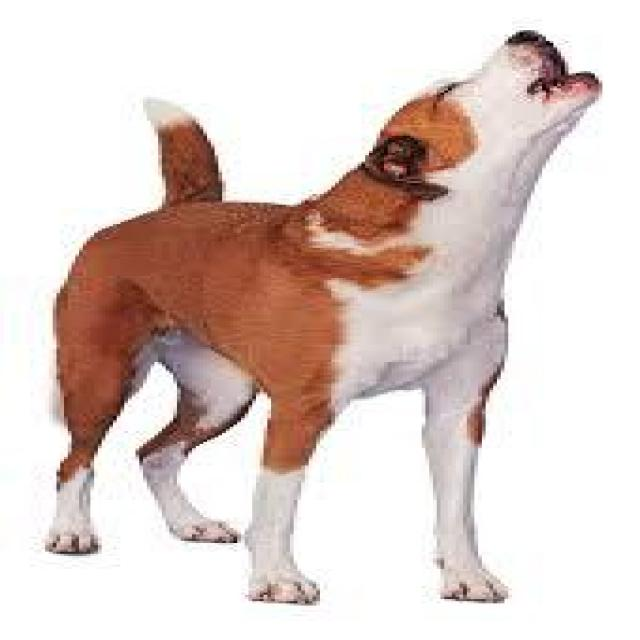Dog: (12, 11, 640, 628)
